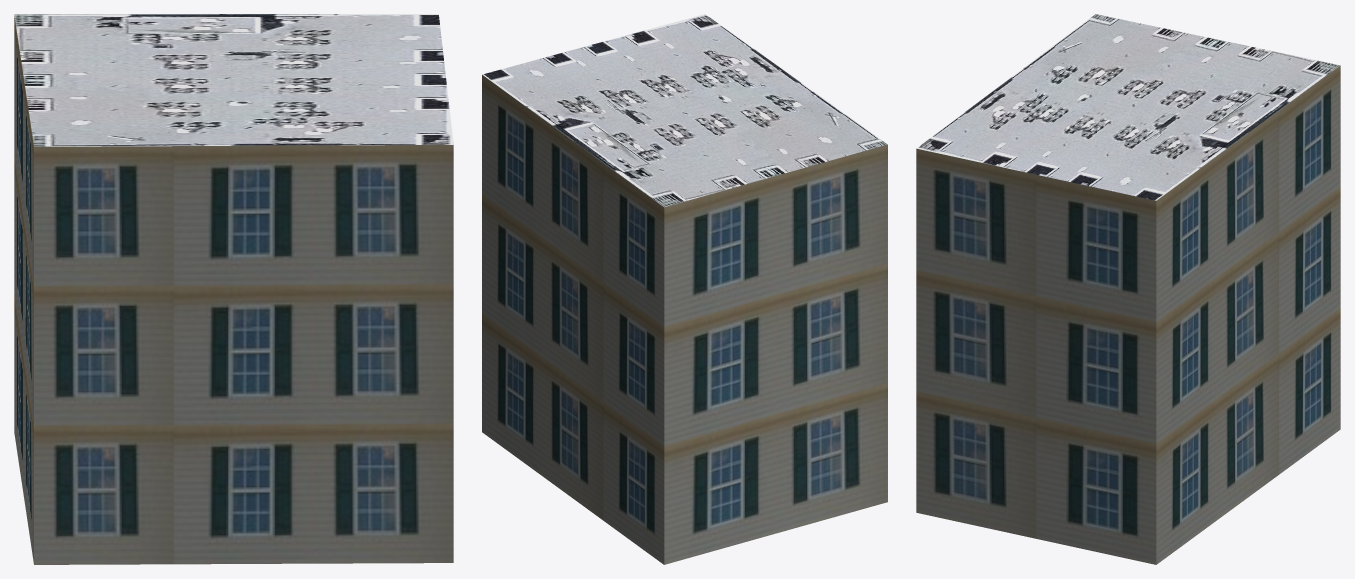
Rendered from ResTex__2547.fbx.
3 renders of one model, left to right at view 1: azimuth 30°, elevation 25°; view 2: azimuth 150°, elevation 25°; view 3: azimuth 270°, elevation 25°, orthographic. The views are drawn at different scales.
Visible parts, largest first — view 1: CityEngineMaterial_7_m, CityEngineMaterial_4_m; view 2: CityEngineMaterial_7_m, CityEngineMaterial_4_m; view 3: CityEngineMaterial_7_m, CityEngineMaterial_4_m.
Part boxes in pixels (box(x1,y1,x2,y2)): CityEngineMaterial_7_m: box(14, 16, 453, 564); CityEngineMaterial_4_m: box(14, 14, 453, 146); CityEngineMaterial_7_m: box(482, 75, 887, 564); CityEngineMaterial_4_m: box(482, 14, 887, 207); CityEngineMaterial_7_m: box(916, 65, 1340, 564); CityEngineMaterial_4_m: box(917, 14, 1339, 200).
Bounding box in the file's own units: 9.9 × 9 × 9.5.
2 materials, 2 textured.
